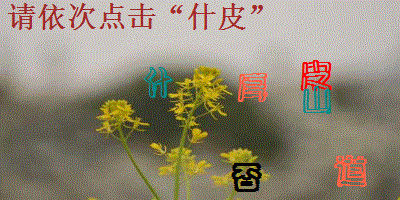result: (187, 2, 248, 31)
text: (332, 152, 369, 189), (299, 57, 334, 92), (235, 71, 270, 104), (230, 160, 264, 193), (143, 64, 171, 100), (301, 85, 333, 114)
